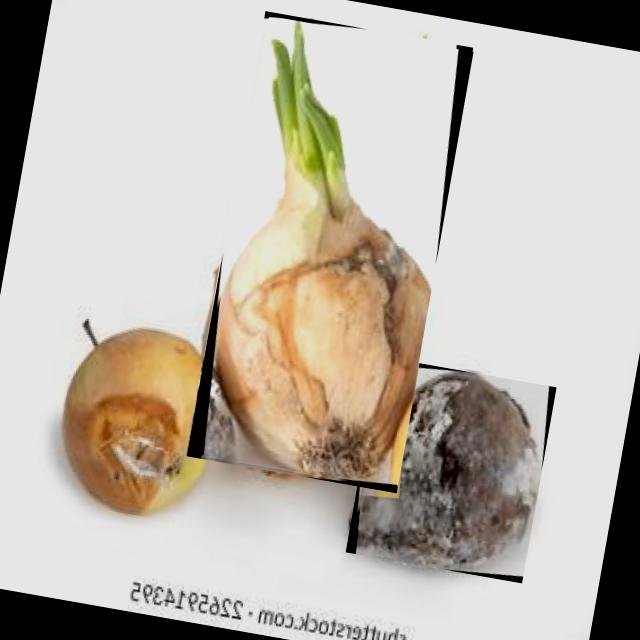rotten: (211, 20, 427, 478), (356, 372, 540, 569)
